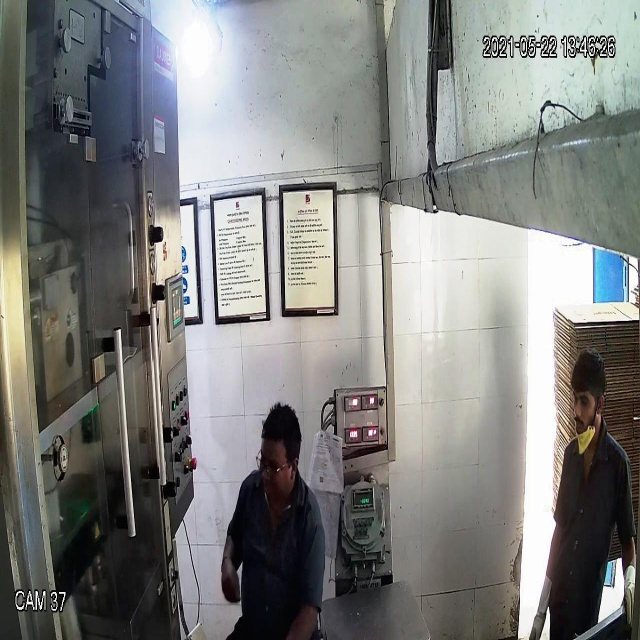Gafas: (249, 448, 296, 478)
Sin_gafas: (568, 387, 603, 414)
